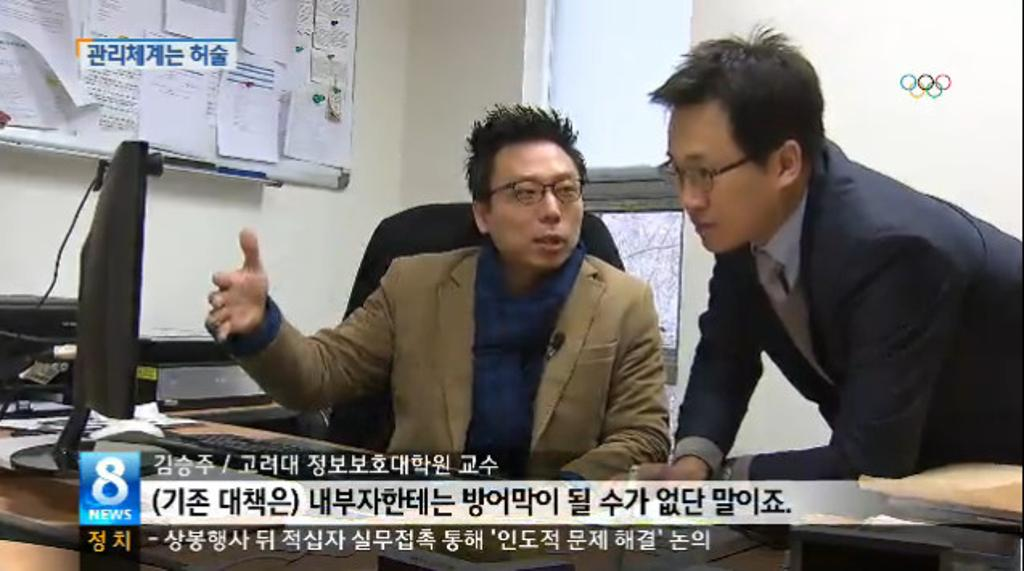face: (662, 108, 754, 254), (490, 142, 582, 258)
